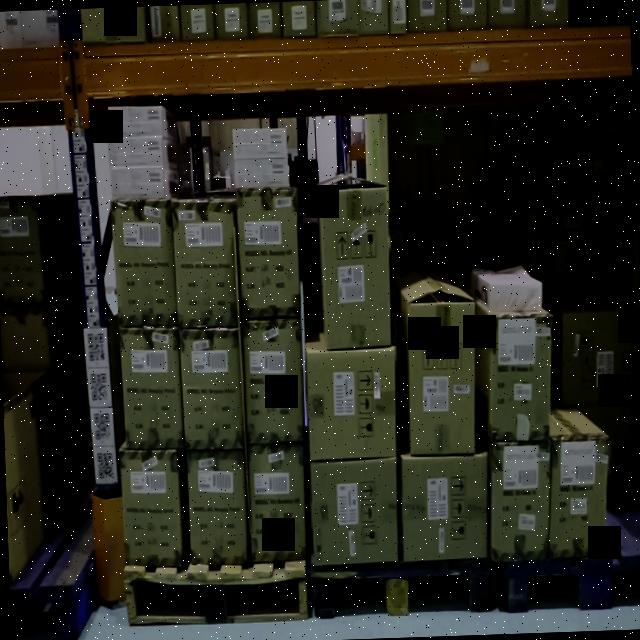box: (406, 297, 478, 455), (321, 189, 391, 347), (306, 345, 398, 457), (400, 452, 491, 558), (172, 194, 240, 328), (178, 320, 246, 453), (311, 460, 399, 555), (489, 313, 552, 439), (242, 318, 304, 442), (185, 446, 249, 563), (240, 188, 301, 310), (120, 326, 183, 444), (493, 439, 551, 560), (116, 200, 174, 320), (549, 440, 612, 550), (122, 454, 184, 564), (248, 445, 306, 555), (106, 102, 166, 137), (232, 125, 288, 152), (234, 159, 292, 185), (108, 136, 164, 162), (109, 170, 167, 194)
